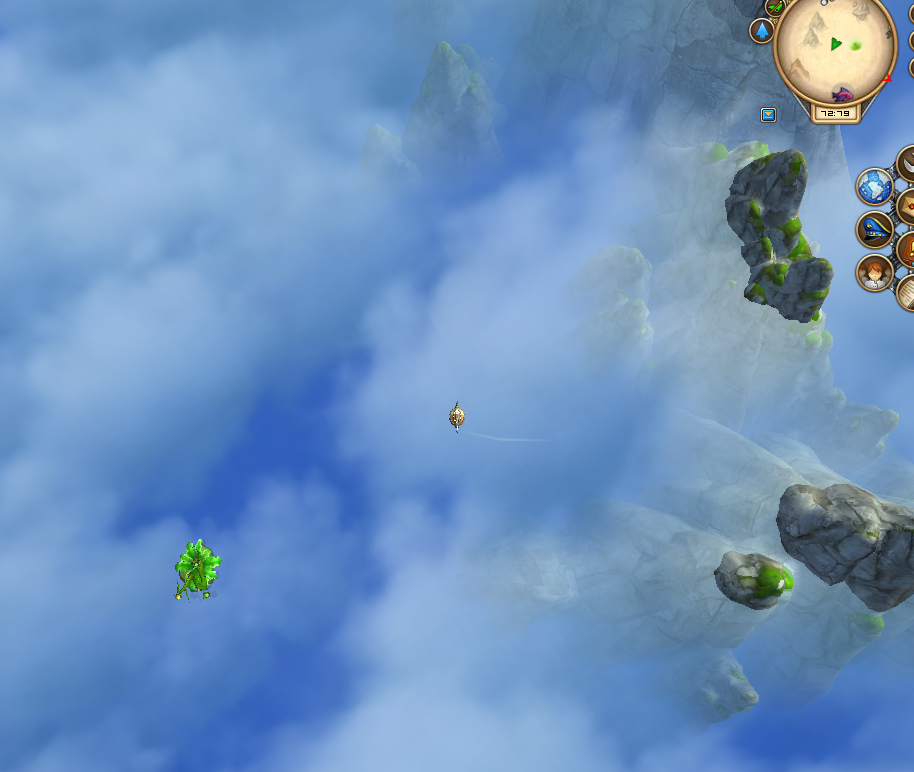dandelion-empty: (164, 535, 222, 608)
